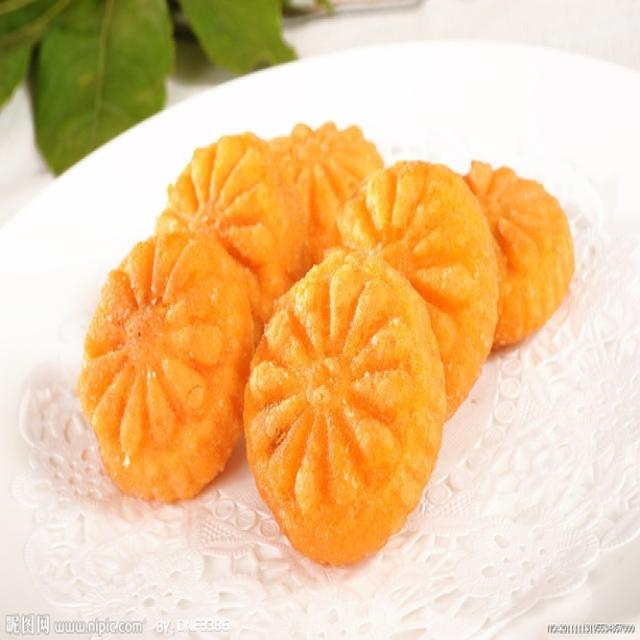炸货点心: (29, 69, 614, 615)
蛋糕甜品: (29, 69, 614, 615)
